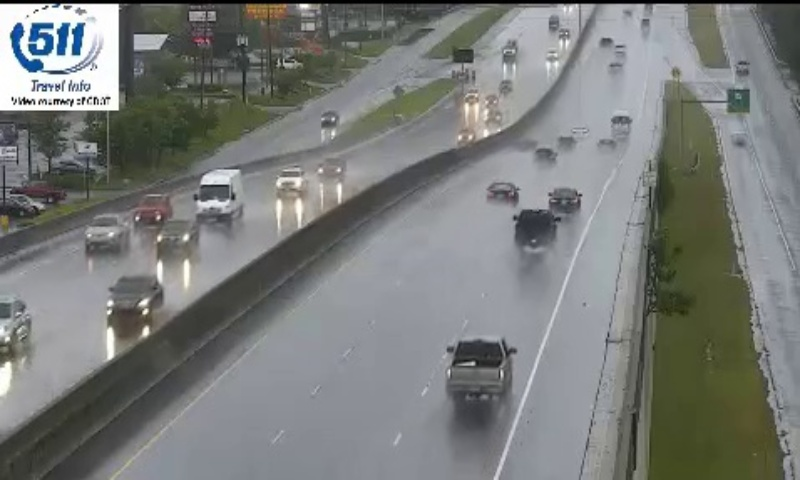car: (445, 335, 512, 401), (513, 209, 555, 245), (547, 186, 580, 215)
